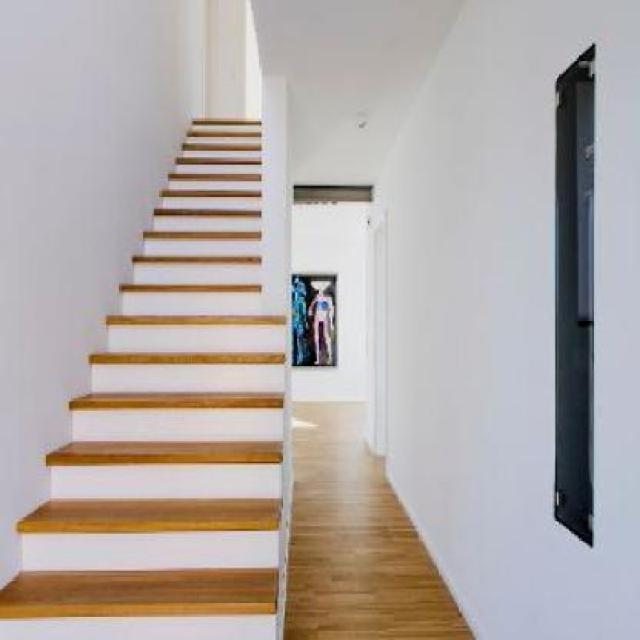stair: (7, 23, 293, 639)
